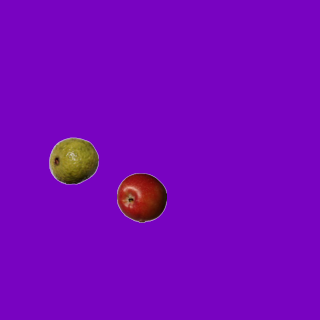Apple Braeburn: (116, 172, 166, 222)
Guava: (48, 135, 98, 185)
